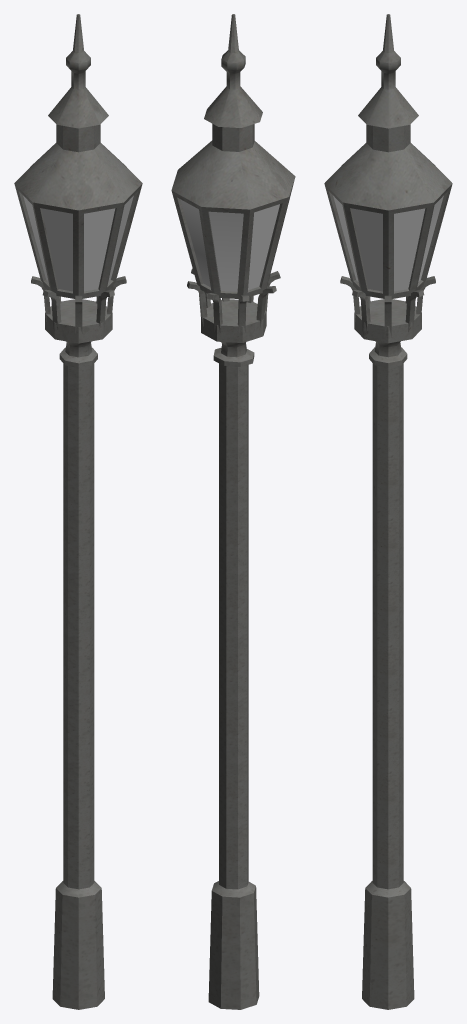
File: lantern.fbx
3 renders of one model, left to right at view 1: azimuth 90°, elevation 25°; view 2: azimuth 150°, elevation 25°; view 3: azimuth 270°, elevation 25°, orthographic.
Parts seen in each view (by area): view 1: Mesh; view 2: Mesh; view 3: Mesh.
Part boxes in pixels (x1,y1,x2,y2): Mesh: [14, 14, 142, 1009]; Mesh: [171, 14, 295, 1009]; Mesh: [324, 14, 452, 1009].
Size of the model in its own units: 34.86 by 295 by 34.86.
